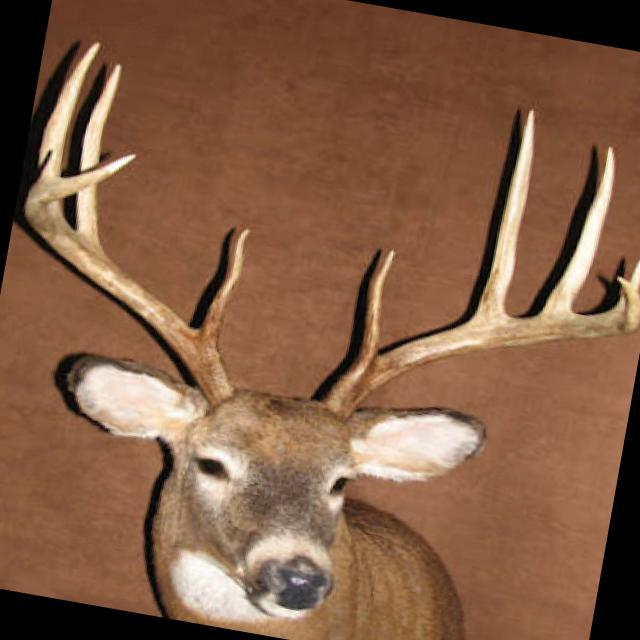E1: (32, 147, 57, 183)
L-F: (317, 276, 640, 422)
L-G1: (358, 249, 396, 358)
L-G2: (473, 107, 534, 318)
L-G3: (543, 146, 616, 313)
R-F: (24, 152, 237, 407)
R-G1: (200, 227, 252, 344)
